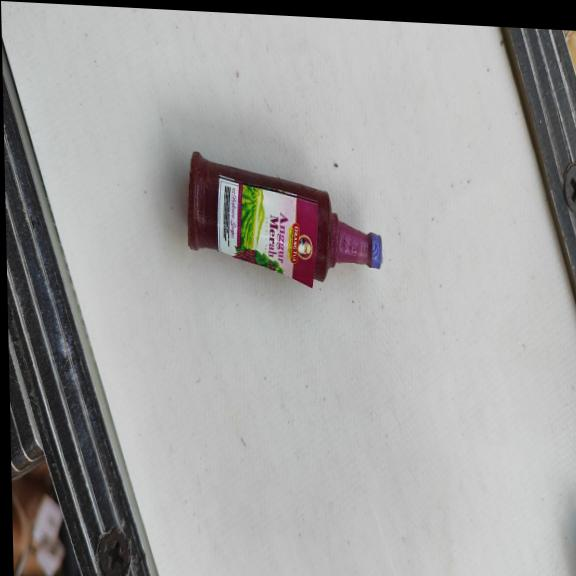Plastik: (184, 149, 382, 290)
